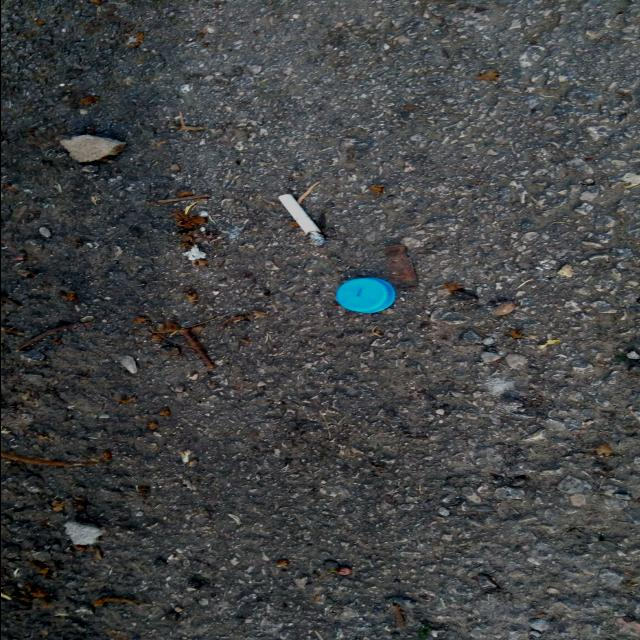Cigarette: (277, 194, 325, 245)
Plastic bottle cap: (335, 278, 394, 313)
Scrap metal: (177, 328, 213, 368)
